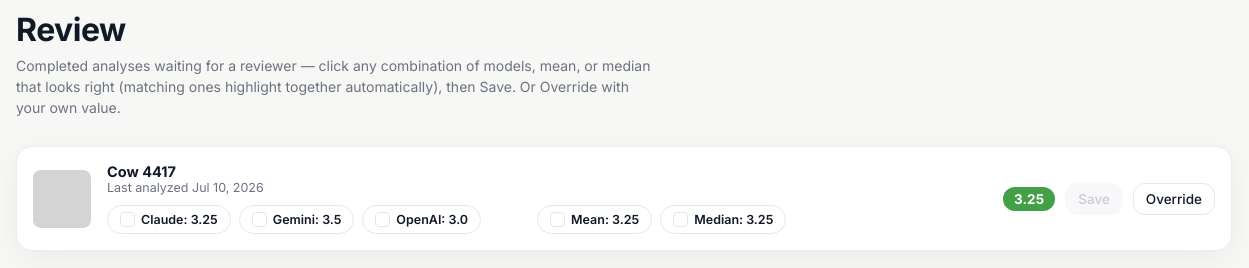
it: ReviewPage › clicking an already-selected candidate again deselects it, reverting the preview to the median
Expected: the text "Cow 4417" is shown, left=107, top=163, right=176, bottom=180
Step 1. Click the button "Gemini: 3.5" → coordinates (297, 220), box left=239, top=205, right=354, bottom=234
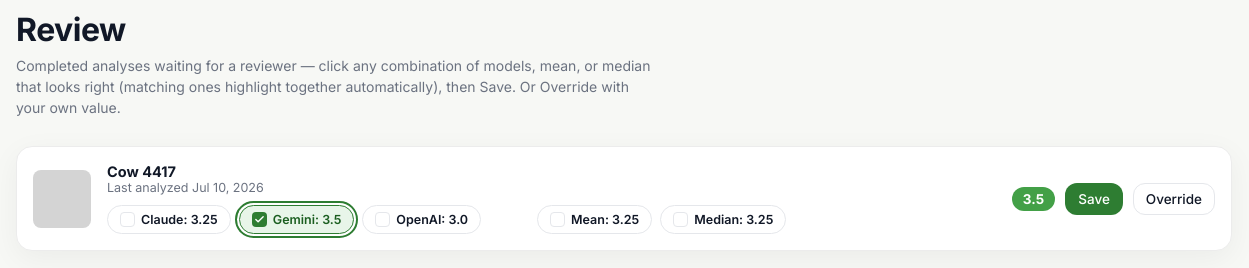
Expected: the button "Save" is enabled, left=1065, top=182, right=1123, bottom=214
Step 2. Click the button "Gemini: 3.5" → coordinates (297, 220), box left=239, top=205, right=354, bottom=234
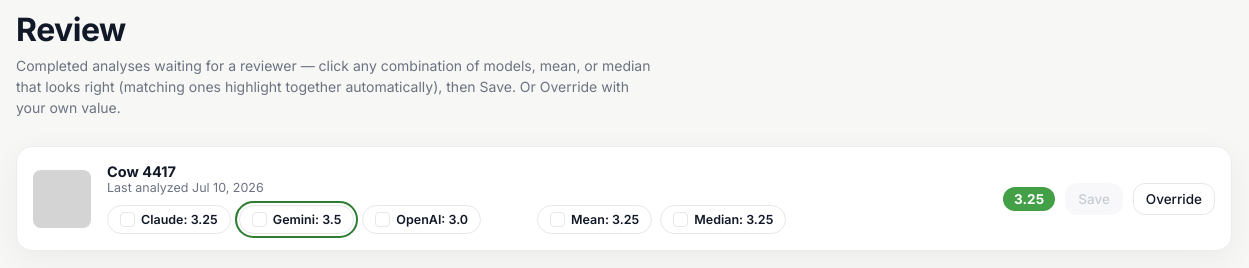
Expected: the button "Save" is disabled, left=1065, top=182, right=1123, bottom=214
Expected: the text "3.25" is shown, left=1014, top=190, right=1044, bottom=206
